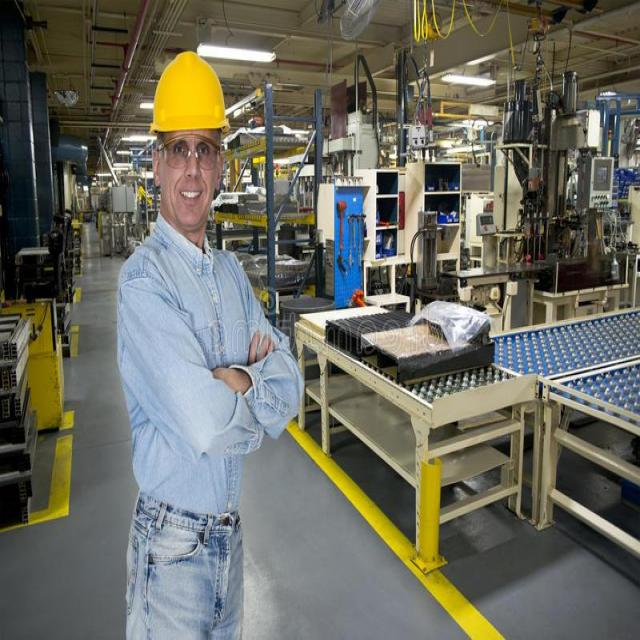Safety-Helmet: (148, 46, 231, 139)
